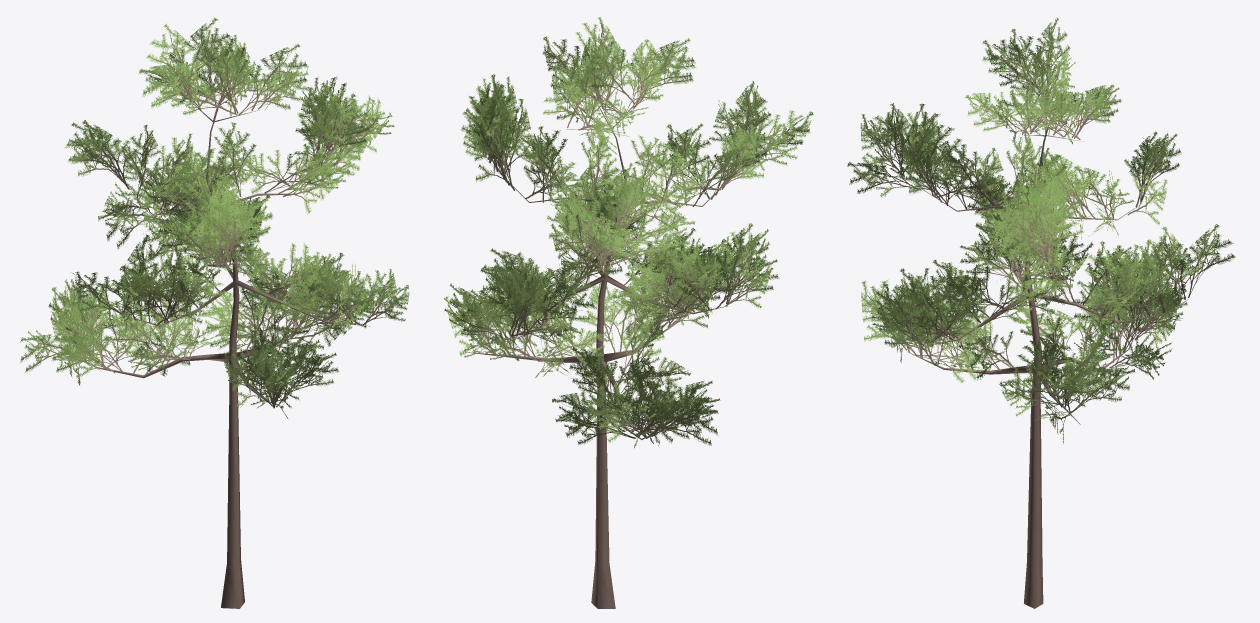
The model's file is tree_Pine_B_M1_LOD1.fbx.
3 renders of one model, left to right at view 1: azimuth 30°, elevation 25°; view 2: azimuth 150°, elevation 25°; view 3: azimuth 270°, elevation 25°, orthographic. The views are drawn at different scales.
Visible parts, largest first — view 1: Pine_B_M1_LOD1; view 2: Pine_B_M1_LOD1; view 3: Pine_B_M1_LOD1.
Part boxes in pixels (bbox=[...]): Pine_B_M1_LOD1: bbox=[20, 17, 409, 608]; Pine_B_M1_LOD1: bbox=[444, 17, 813, 608]; Pine_B_M1_LOD1: bbox=[847, 17, 1235, 608].
Size of the model in its own units: 780 by 1353 by 874.
